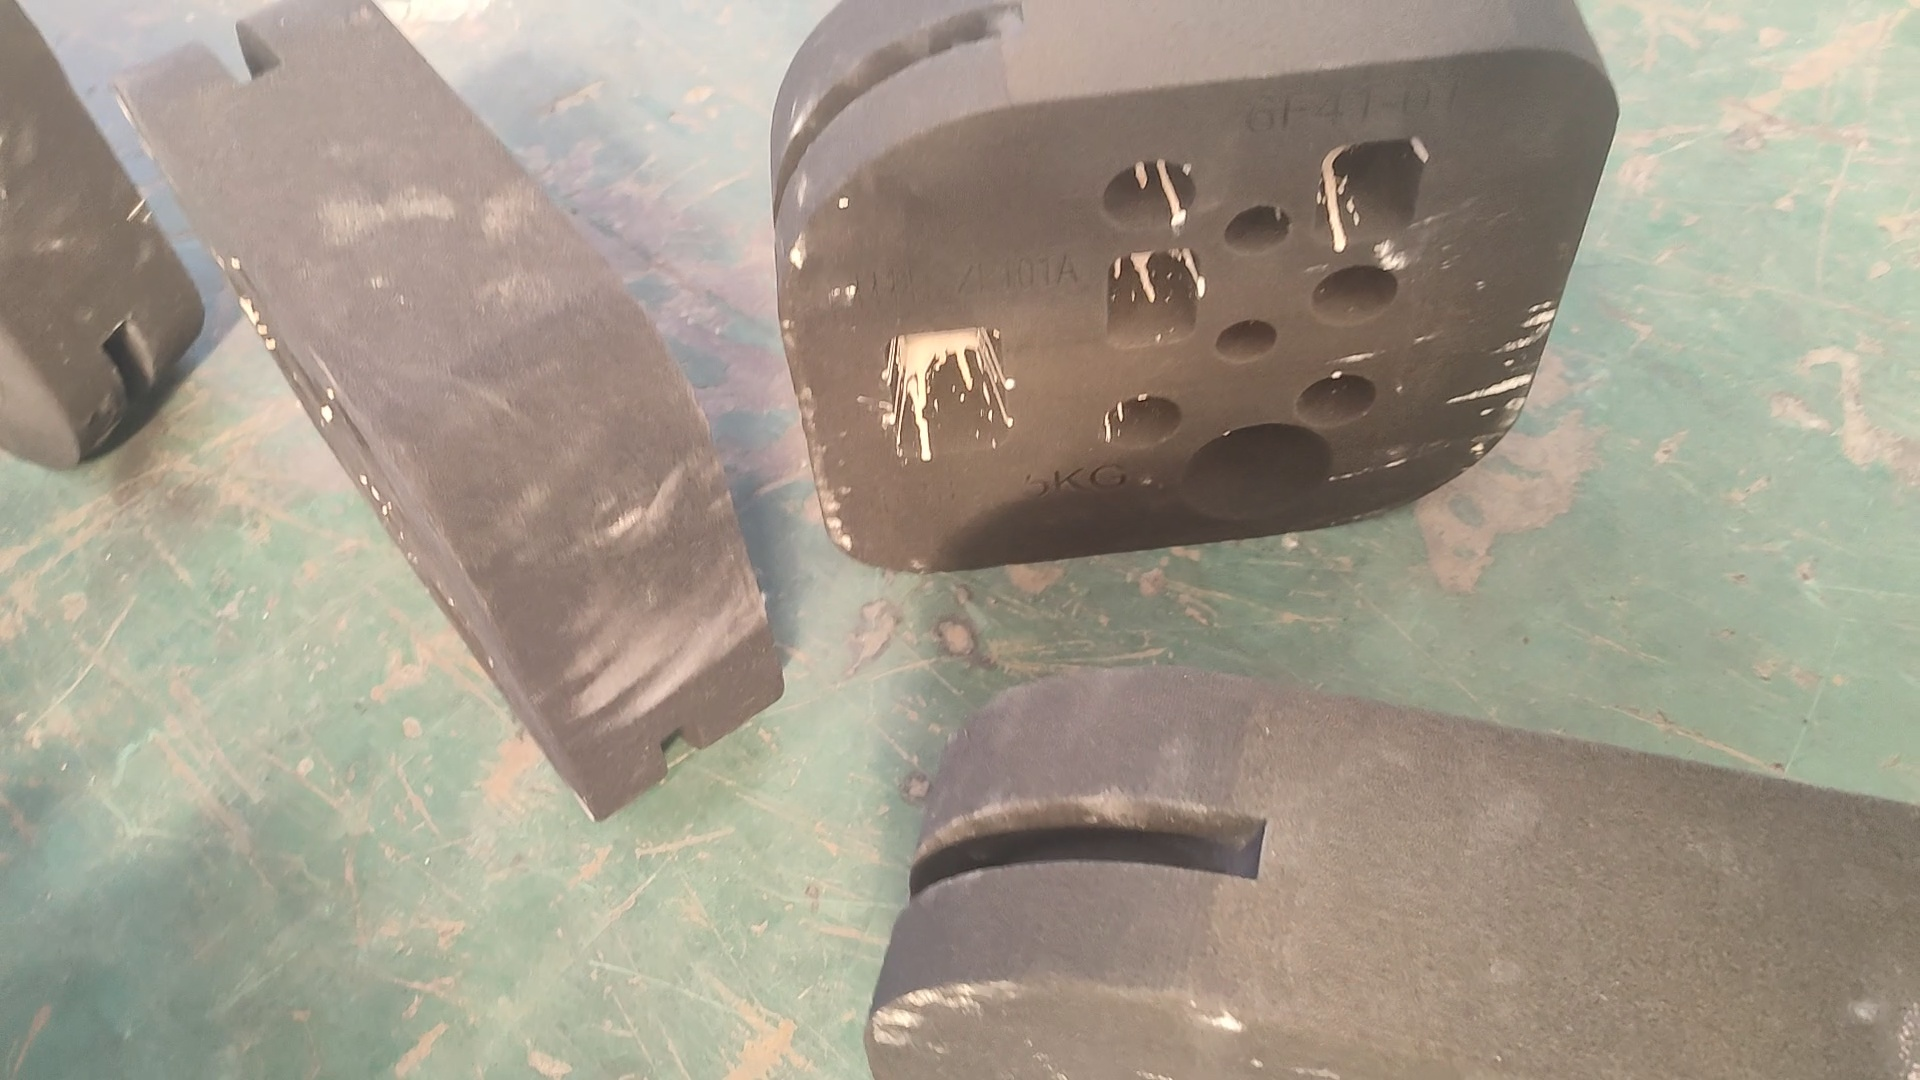pouring hole: (1180, 422, 1335, 520)
